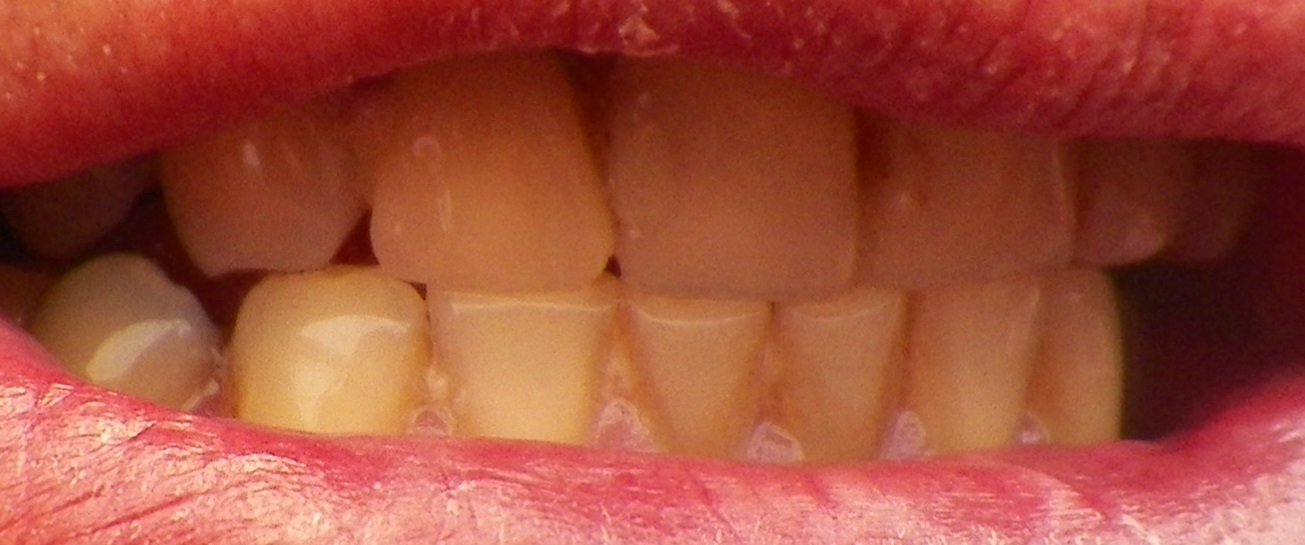boca: (33, 57, 1269, 467)
